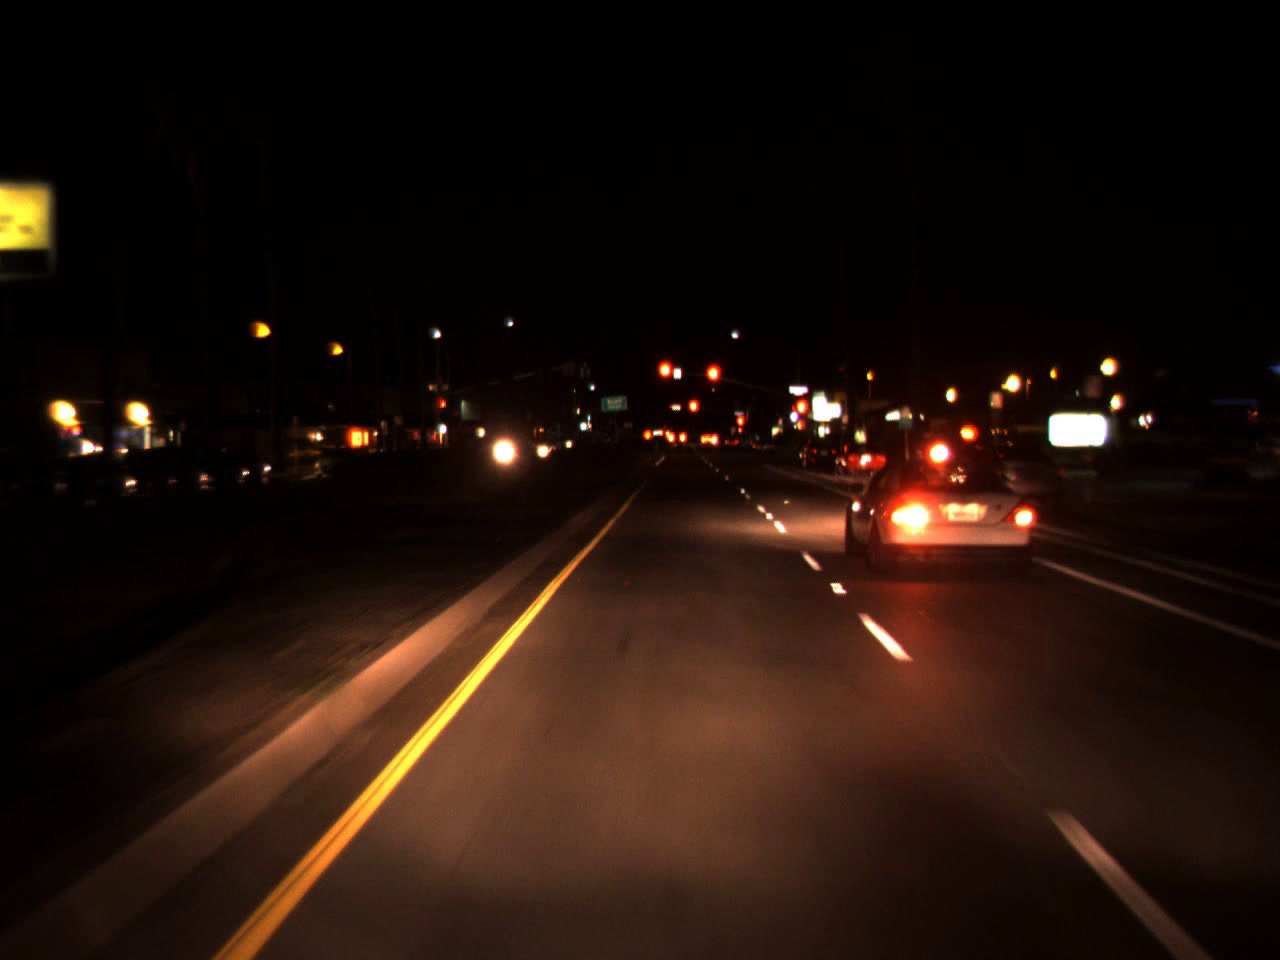stop: (655, 358, 677, 401), (788, 396, 812, 433), (703, 362, 722, 399), (686, 397, 699, 429), (736, 413, 745, 440), (438, 398, 447, 419)
